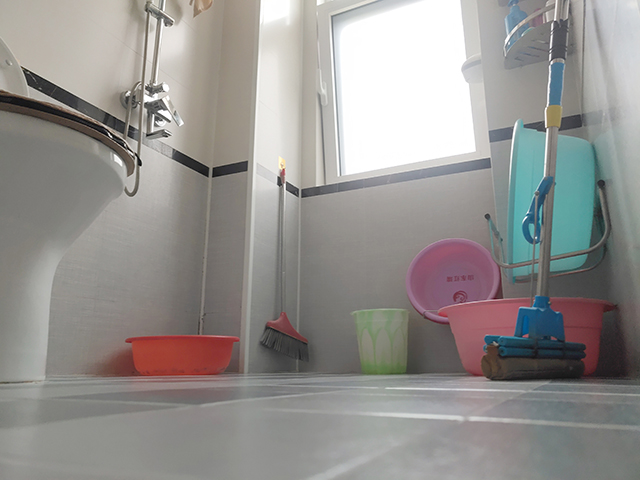closestool: (1, 39, 137, 385)
trashcan: (349, 306, 411, 374)
